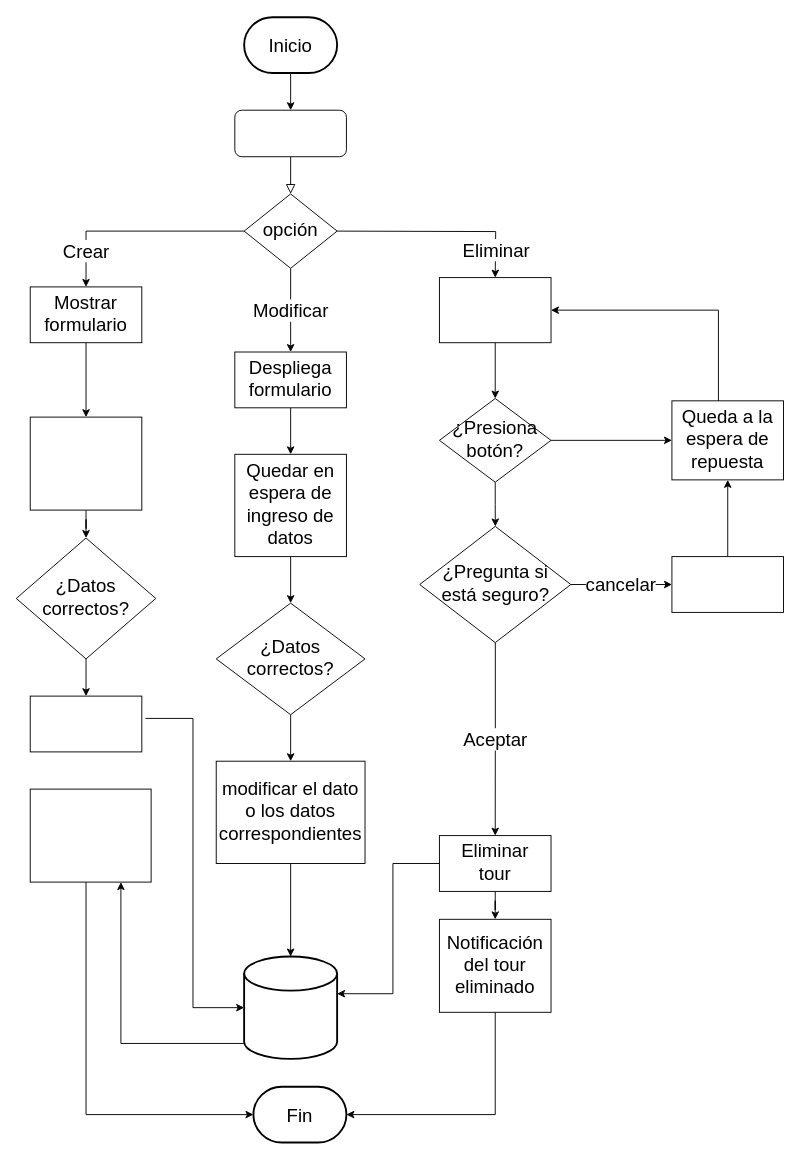
This 800x1159 diagram has some shape labels left out. The shapes that lost their labels are listed below. From the top down, each one's centre as x and y in pixels, then its label:
At (x=290, y=133): "Mostrar lista de tour".
At (x=494, y=310): "Mostrar botón de eliminar".
At (x=85, y=463): "Quedar en espera del ingreso de datos".
At (x=727, y=584): "Vuelve a la espera".
At (x=85, y=723): "Crear el tour".
At (x=90, y=835): "Mostrar la tabla con los datos creados".
At (x=290, y=1007): "Base de Datos".
